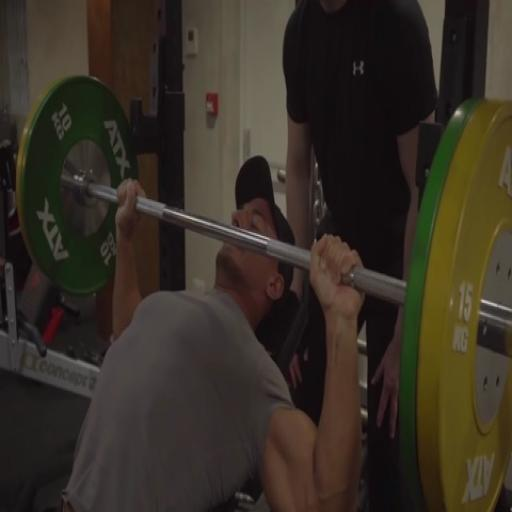exercise: (58, 154, 368, 510)
